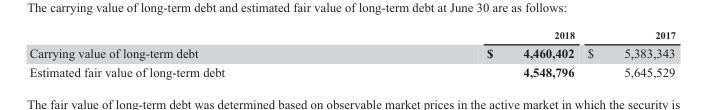table: (28, 29, 674, 78)
table column: (28, 29, 355, 78), (355, 29, 580, 78), (580, 29, 674, 78)
table column header: (28, 29, 674, 43)
table row: (28, 43, 674, 62), (28, 62, 674, 78), (28, 29, 674, 43)
